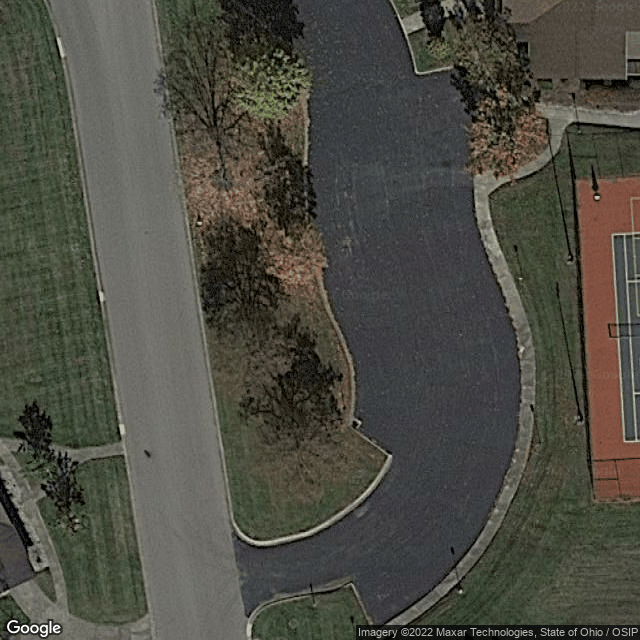Court: (611, 230, 640, 443)
